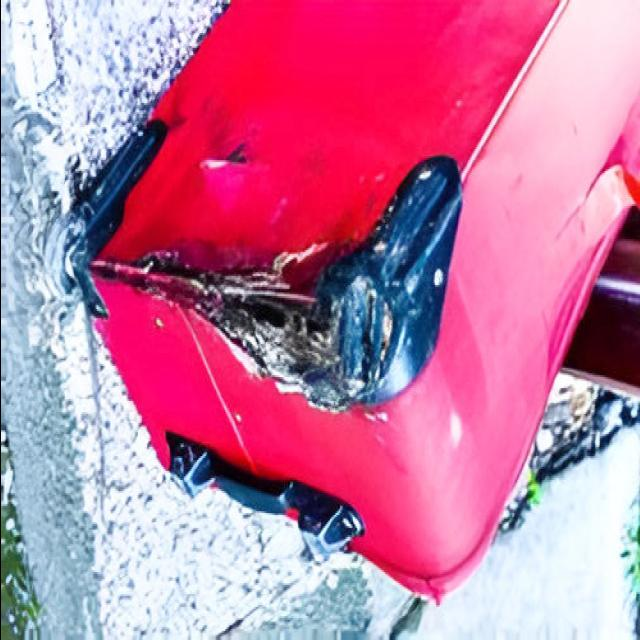Damage-bag: (46, 120, 461, 411), (201, 145, 246, 171)
